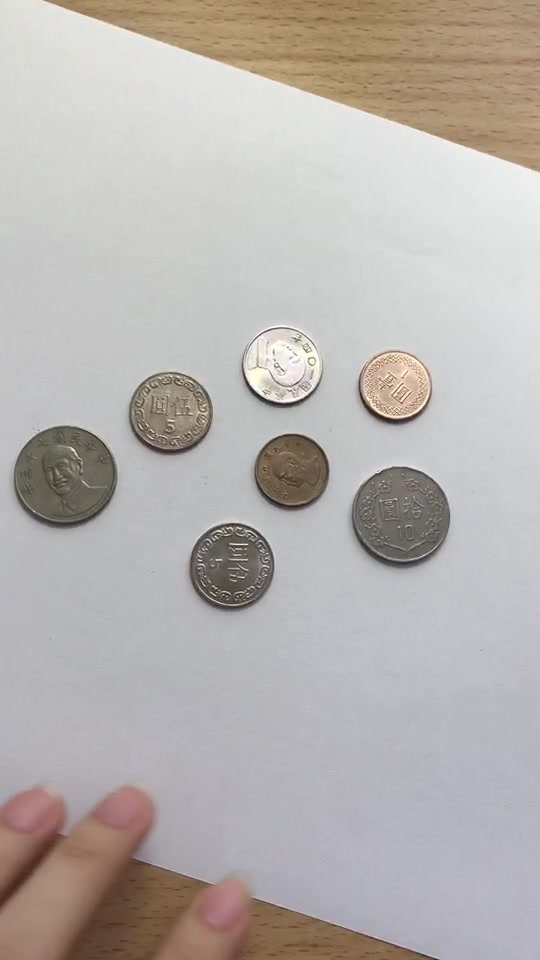1 dallar: (250, 425, 333, 517), (352, 342, 435, 434)
10 dallar: (8, 419, 121, 532), (341, 460, 454, 573)
5 dallar: (121, 365, 216, 463), (183, 515, 278, 613), (236, 320, 331, 418)
